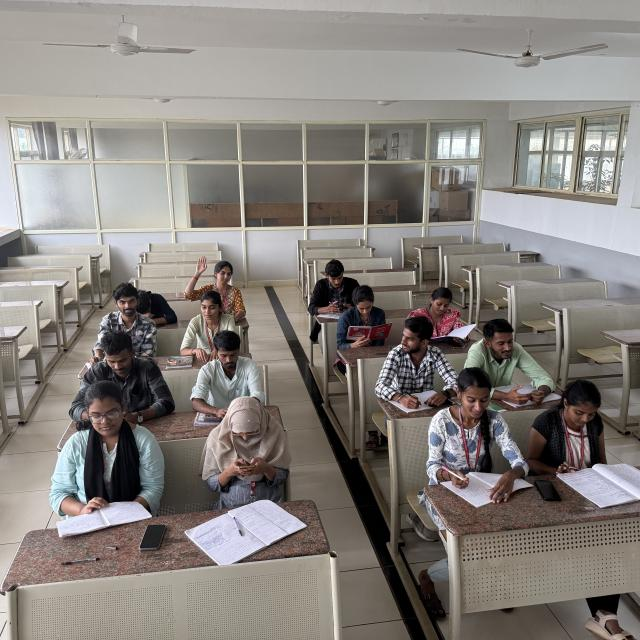Reading: (56, 381, 156, 521), (537, 377, 640, 478), (414, 283, 476, 344), (334, 286, 394, 342)
Sleeping: (131, 284, 183, 331)
Using Phone: (202, 395, 292, 505), (61, 334, 171, 422), (308, 256, 363, 315)
Writing: (423, 366, 528, 489), (86, 283, 174, 371), (382, 315, 454, 408)
